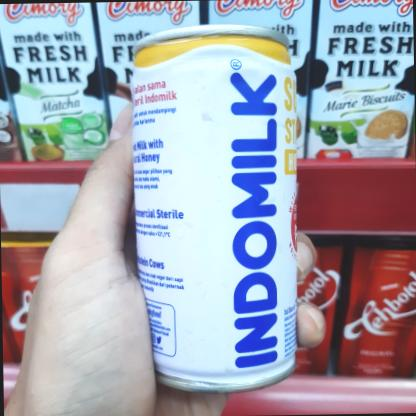alumunium_can: (114, 17, 305, 409)
